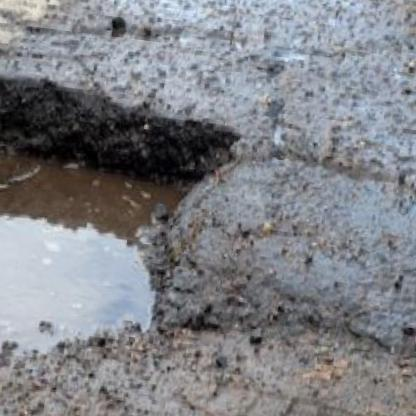pothole: (0, 50, 246, 416)
